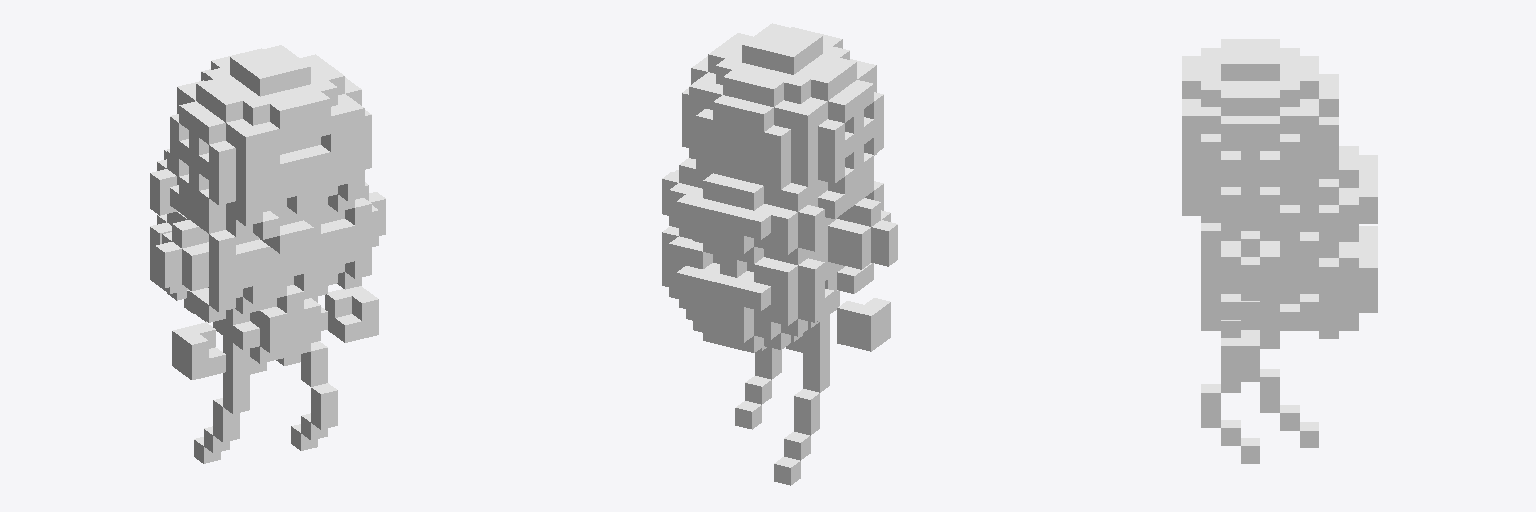
Rendered from player_walk-07.obj.
3 views of the same model, side by side, from view 1: azimuth 30°, elevation 25°; view 2: azimuth 150°, elevation 25°; view 3: azimuth 270°, elevation 25° (orthographic).
Bounding box in the file's own units: 13 × 23 × 10.